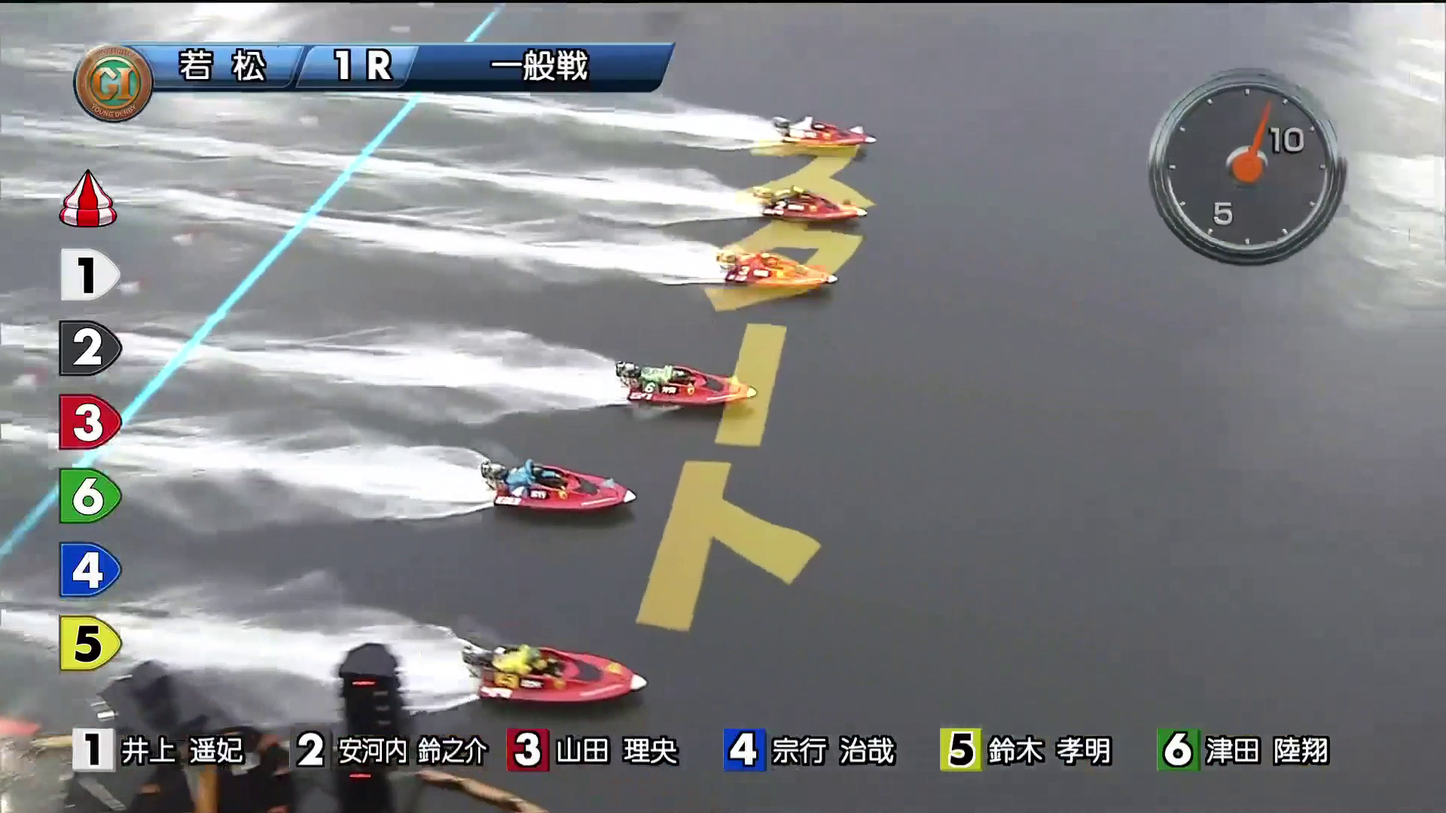１号艇: (772, 117, 856, 163)
２号艇: (768, 191, 864, 229)
３号艇: (725, 254, 839, 295)
４号艇: (646, 360, 745, 403)
５号艇: (507, 458, 619, 510)
６号艇: (484, 650, 626, 705)
